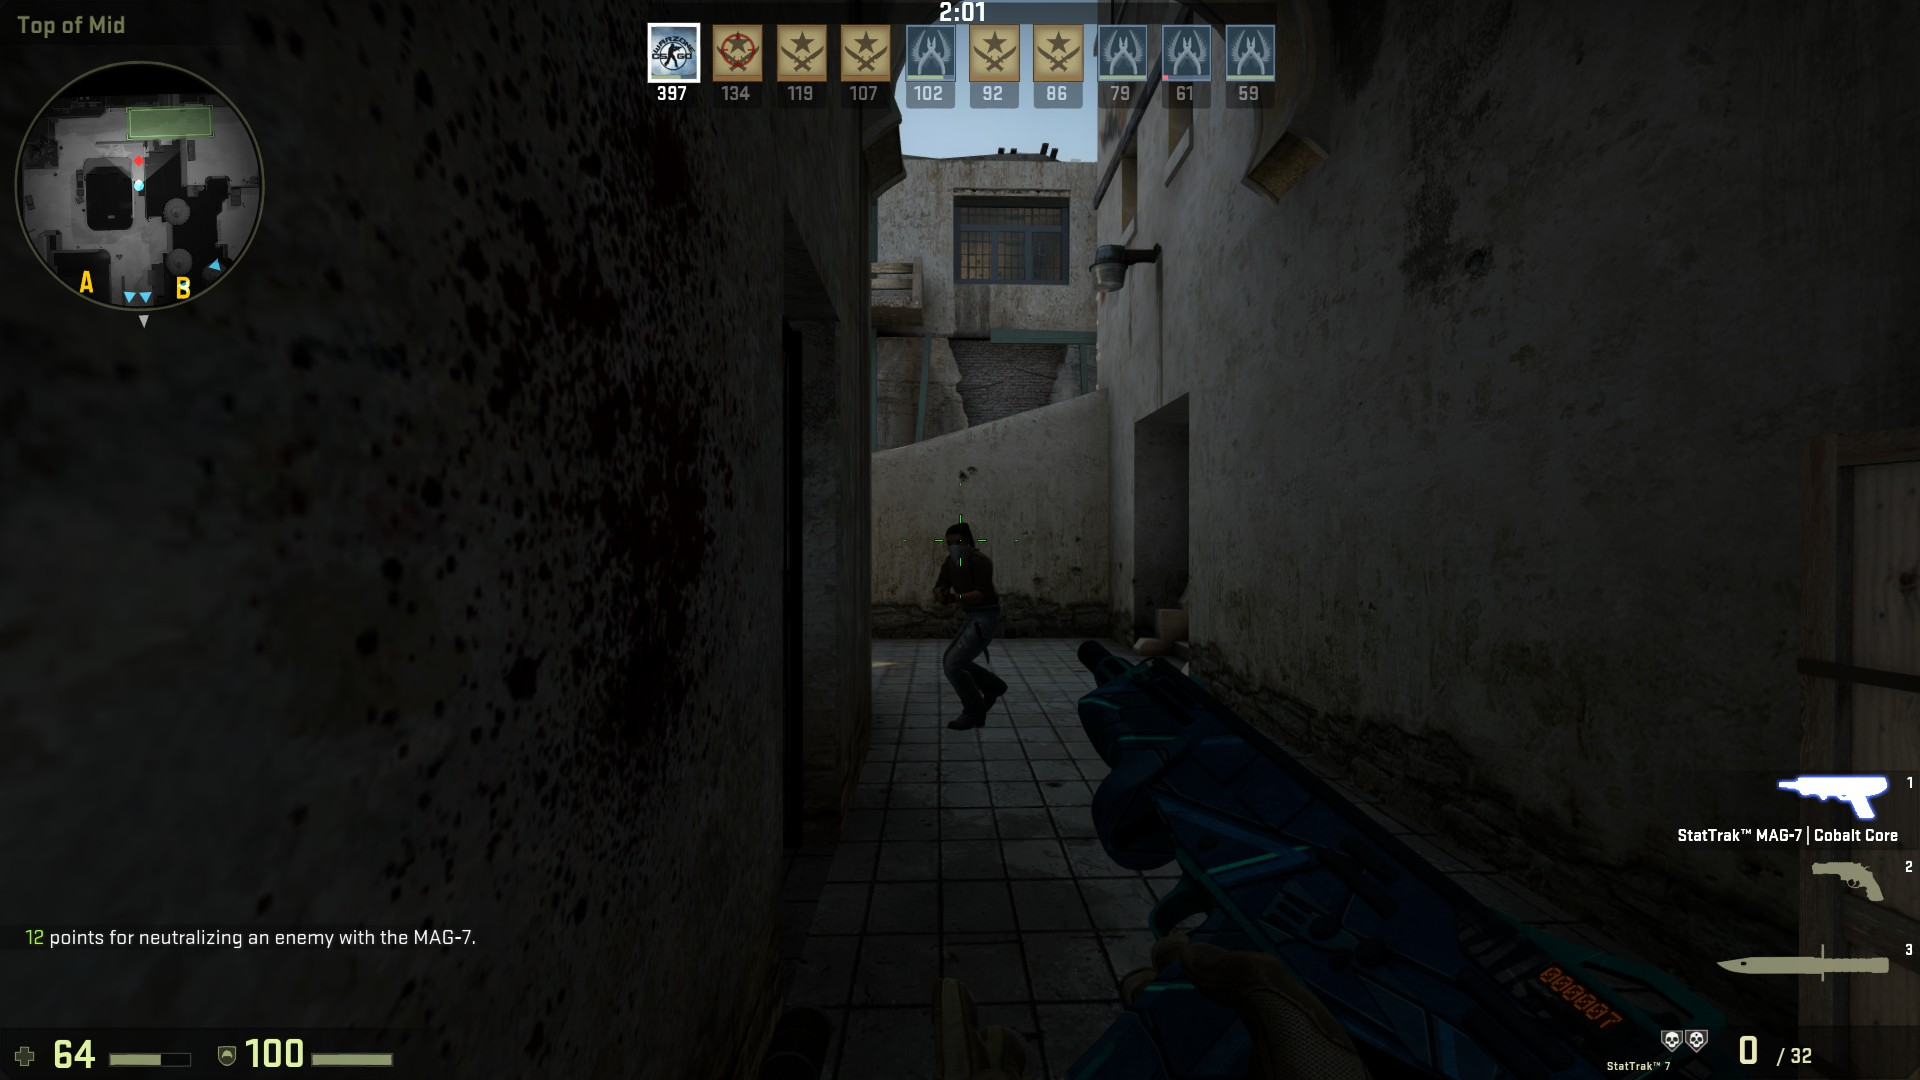t: (924, 516, 1007, 732)
th: (934, 520, 986, 571)
